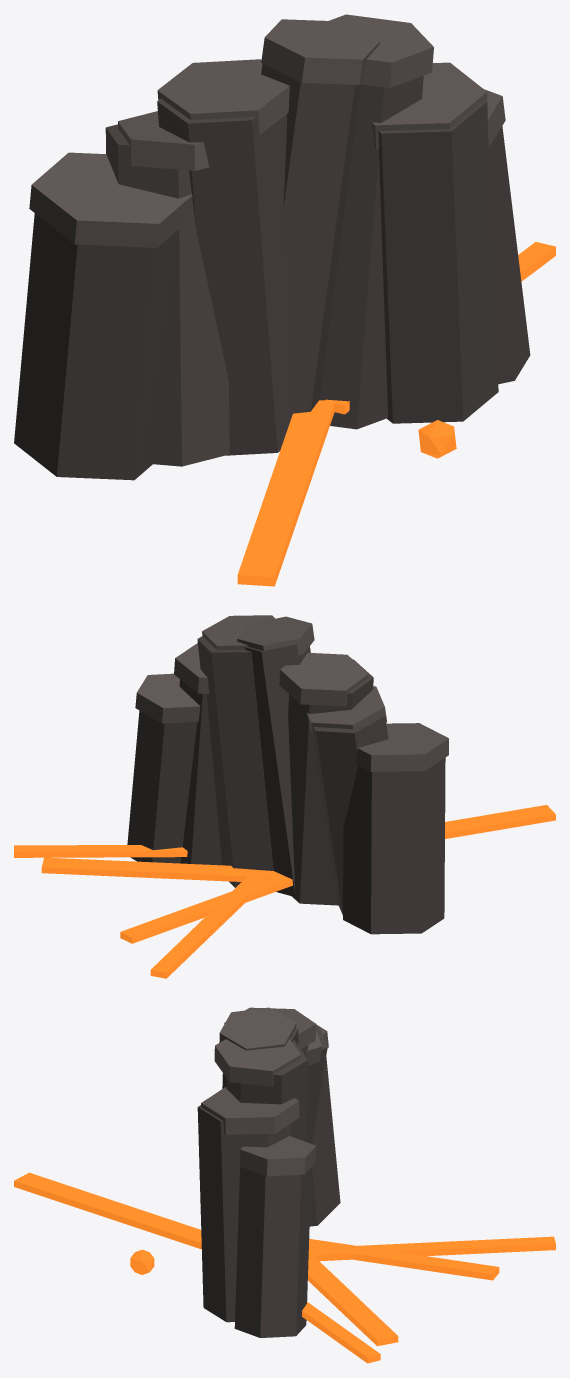
File: runtime.glb
3 views of the same model, one above another, from view 1: azimuth 30°, elevation 25°; view 2: azimuth 150°, elevation 25°; view 3: azimuth 270°, elevation 25° (orthographic). The views are drawn at different scales.
Parts seen in each view (by area): view 1: magma_outcrop_basalt_nocol, magma_outcrop_cap_noshadow_nocol, magma_outcrop_lava_noshadow_nocol; view 2: magma_outcrop_basalt_nocol, magma_outcrop_cap_noshadow_nocol, magma_outcrop_lava_noshadow_nocol; view 3: magma_outcrop_basalt_nocol, magma_outcrop_lava_noshadow_nocol, magma_outcrop_cap_noshadow_nocol.
Part boxes in pixels (x1=…): magma_outcrop_basalt_nocol: x1=14, y1=63, x2=530, y2=480; magma_outcrop_cap_noshadow_nocol: x1=29, y1=14, x2=505, y2=247; magma_outcrop_lava_noshadow_nocol: x1=237, y1=242, x2=555, y2=586; magma_outcrop_basalt_nocol: x1=127, y1=636, x2=445, y2=934; magma_outcrop_cap_noshadow_nocol: x1=135, y1=615, x2=448, y2=771; magma_outcrop_lava_noshadow_nocol: x1=14, y1=805, x2=555, y2=978; magma_outcrop_basalt_nocol: x1=197, y1=1022, x2=340, y2=1337; magma_outcrop_lava_noshadow_nocol: x1=14, y1=1172, x2=555, y2=1363; magma_outcrop_cap_noshadow_nocol: x1=201, y1=1007, x2=328, y2=1176.
Bounding box in the file's own units: 3.94 × 2.51 × 4.81.
